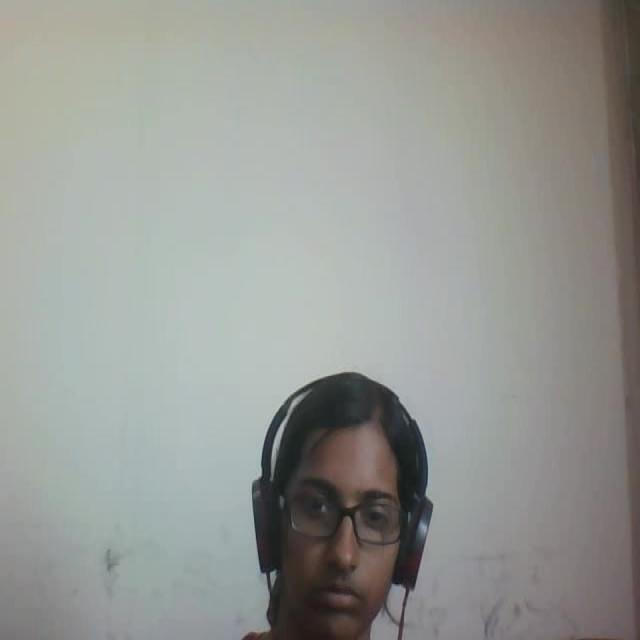Engaged: (234, 350, 463, 640)
